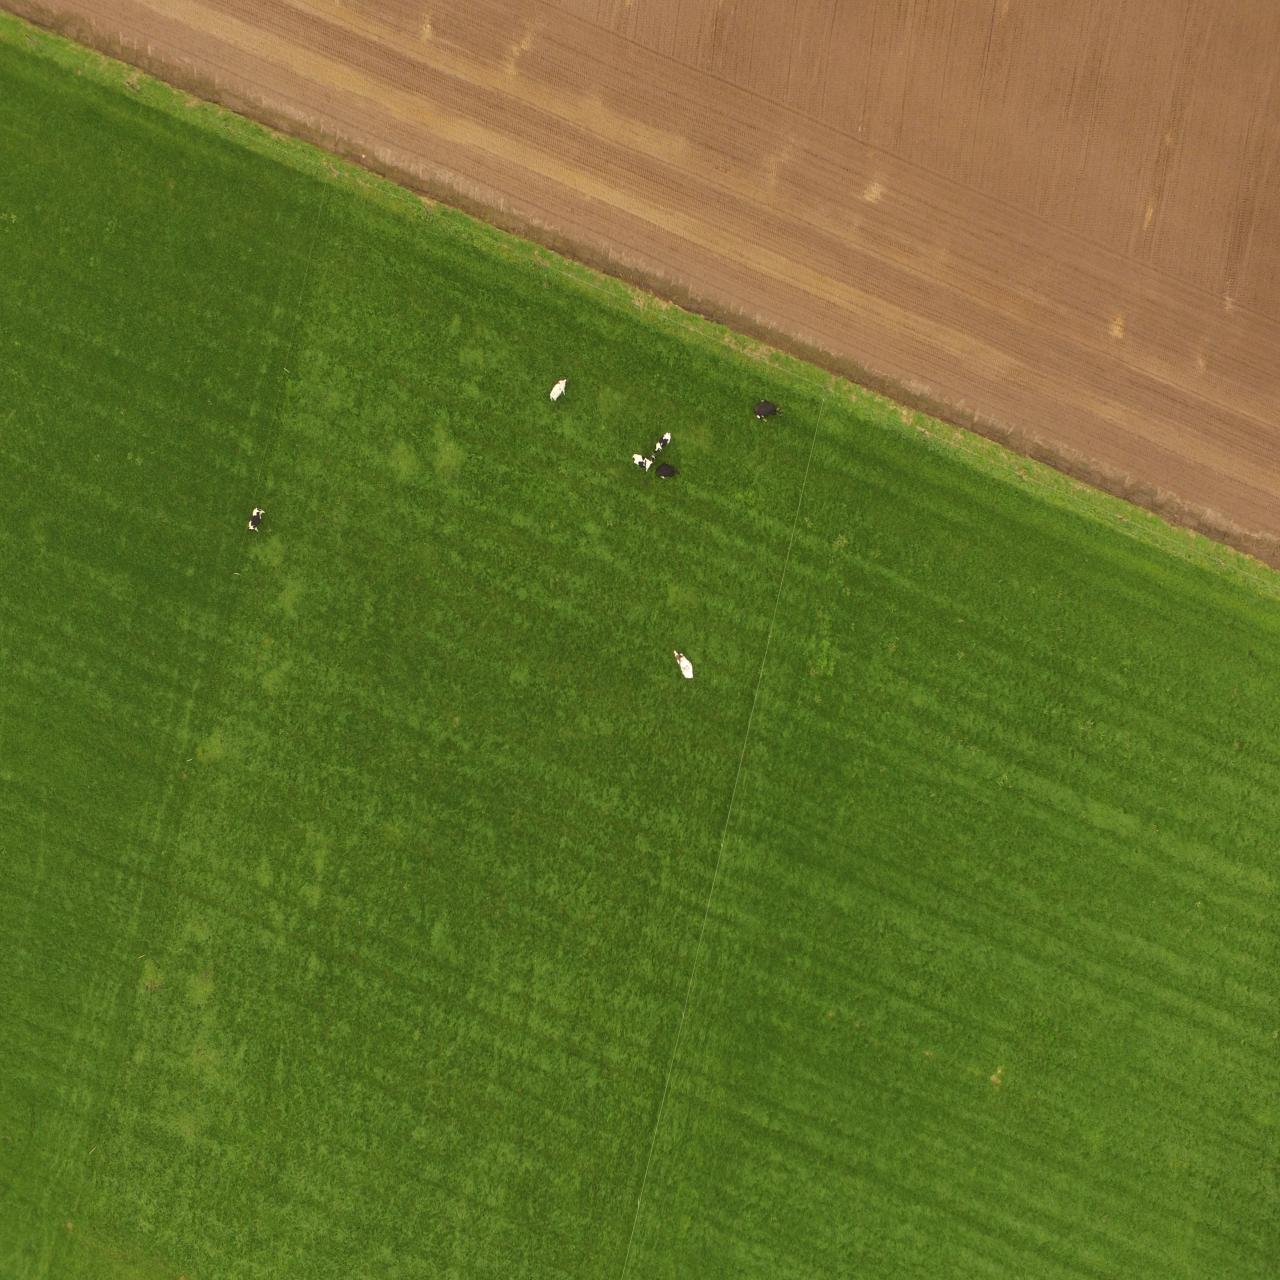cow: (751, 396, 783, 423), (673, 648, 695, 685), (248, 505, 267, 536), (549, 376, 568, 402), (654, 463, 682, 481), (629, 452, 654, 471), (654, 431, 673, 452)
